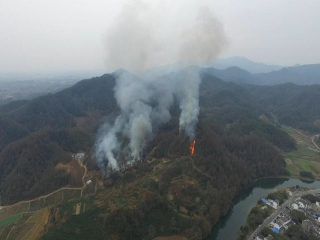smoke: (87, 6, 228, 175)
